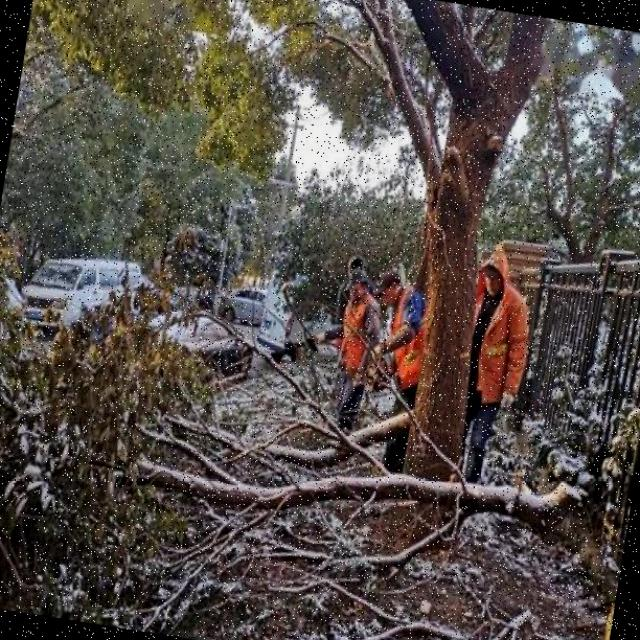fallen_object: (0, 255, 603, 562)
